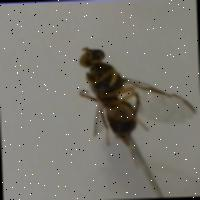Oriental-fruit-fly: (68, 32, 198, 160)
